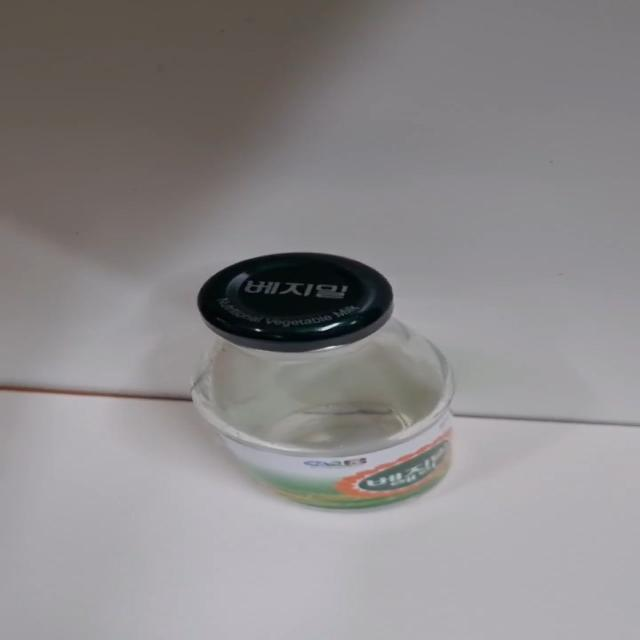Glass: (189, 254, 457, 514)
